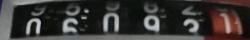digits: (137, 0, 166, 40), (61, 0, 89, 38), (100, 0, 122, 38), (180, 2, 202, 37), (26, 3, 45, 39), (212, 12, 234, 38)
